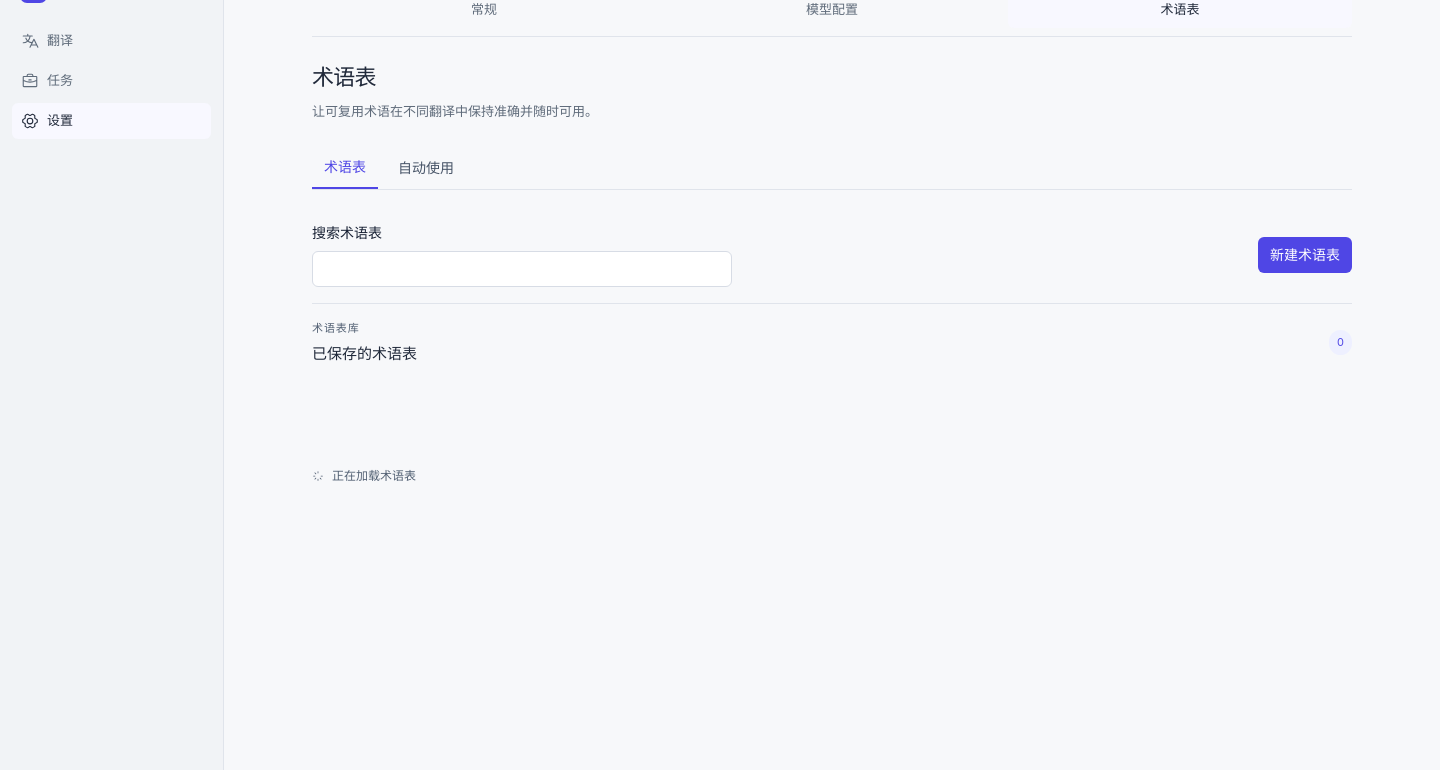
it: product shell › localizes Term map guidance for zh-CN
Click the button "新建术语表" at x=1305, y=255, box [1258,237,1352,273]
(page scrolled)
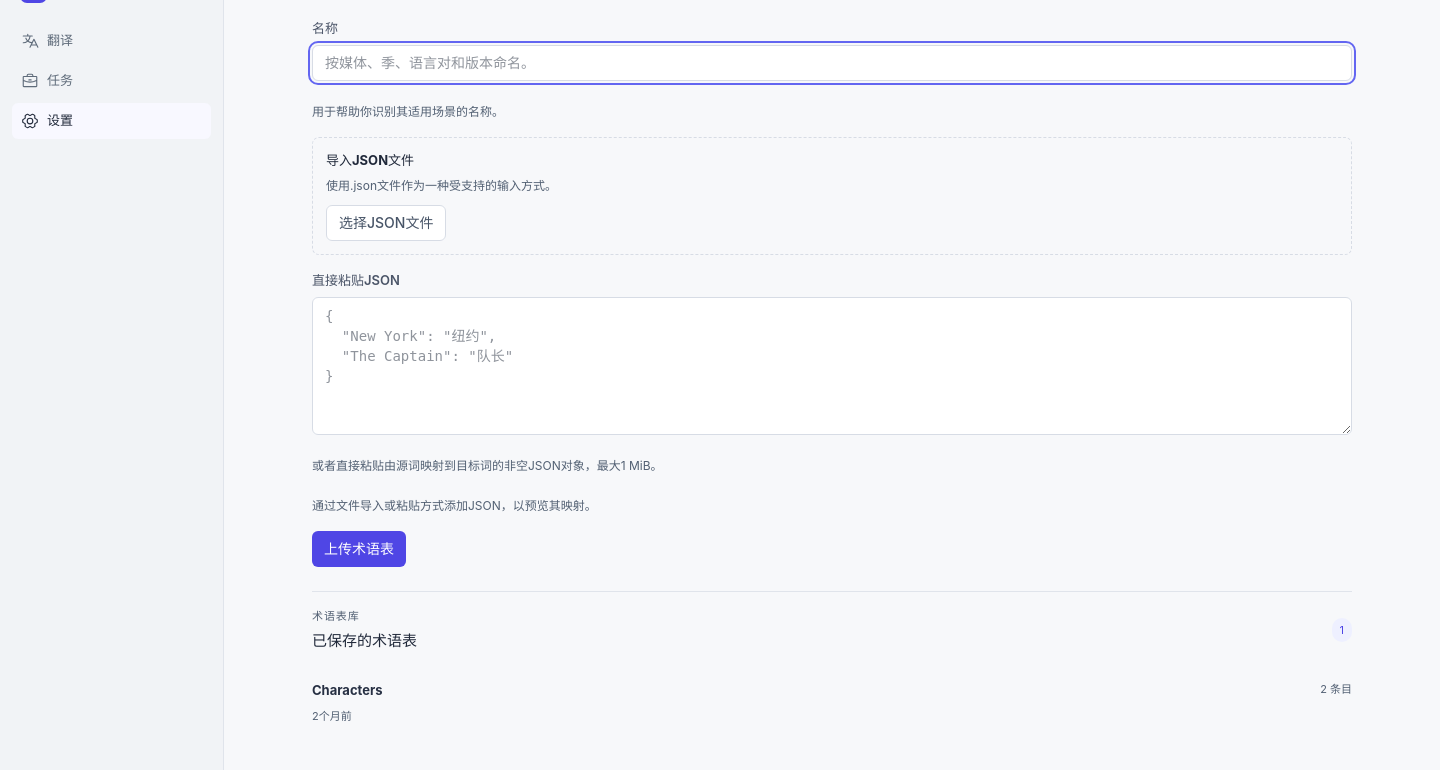
Now the text "用于帮助你识别其适用场景的名称。" is shown, box [312,104,504,119]
